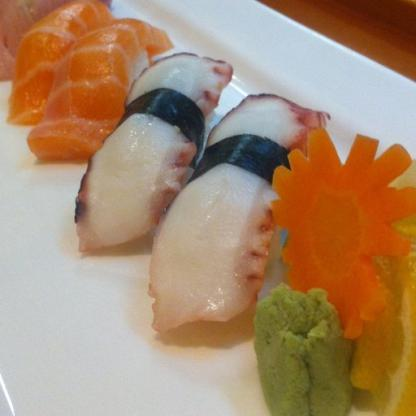salmon: (26, 2, 162, 152)
